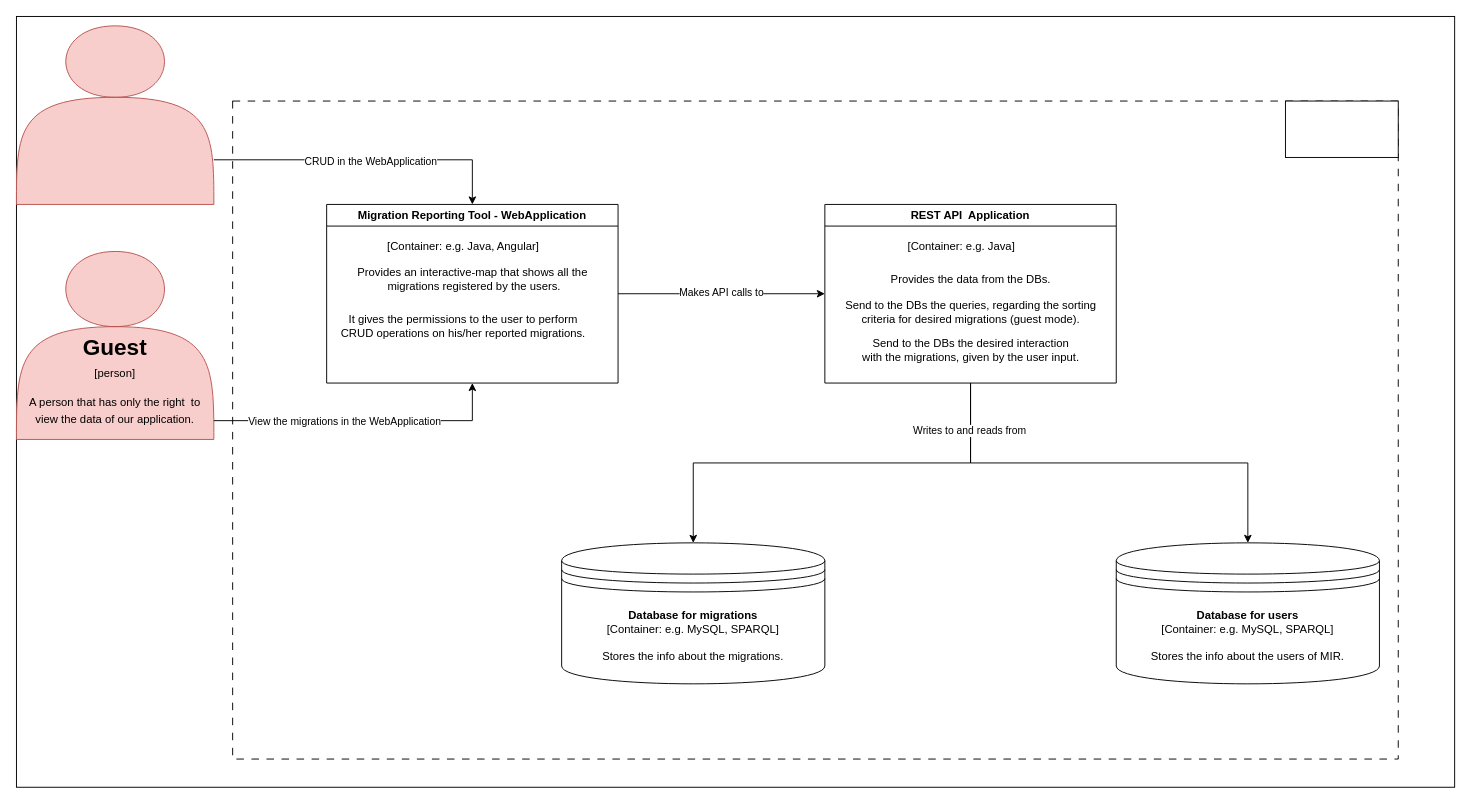
Some shapes in this 1471 by 804 pixel diagram are drawn without their labels. The shapes that lost their labels are listed below. From the top down, each one's centre as x and y in pixels, then its label:
point (115, 114): User [person] A person that has the right to modify the data of our application.
point (1341, 128): MIR Application
